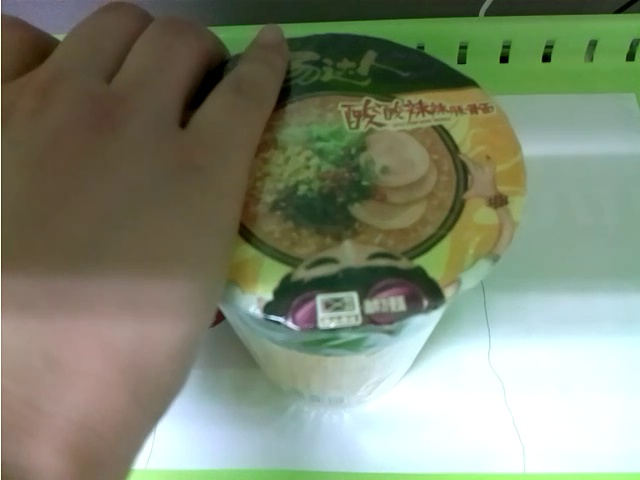hand: (1, 1, 292, 470)
noodles: (190, 32, 528, 415)
